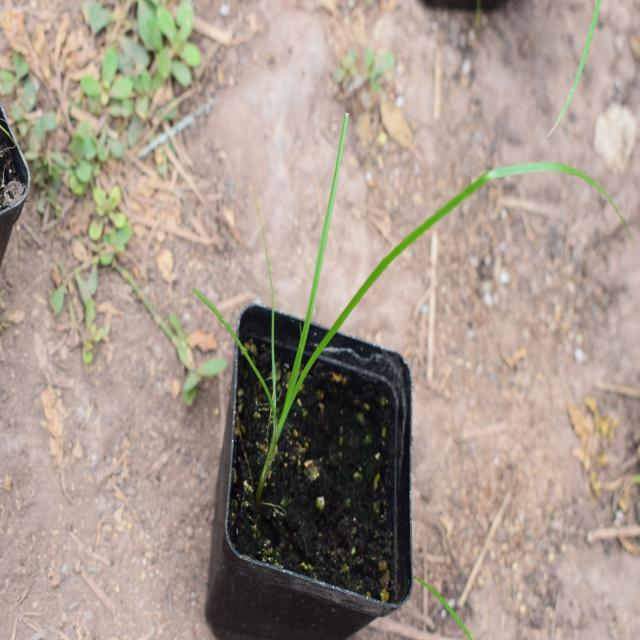sedge: (198, 78, 497, 459)
